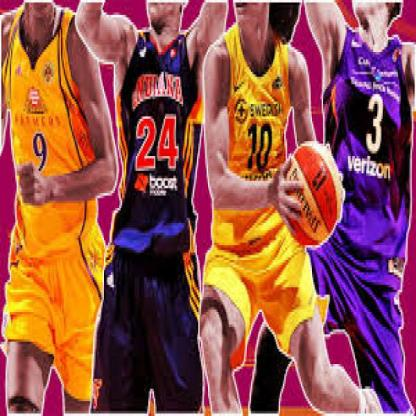basketball: (282, 141, 341, 248)
